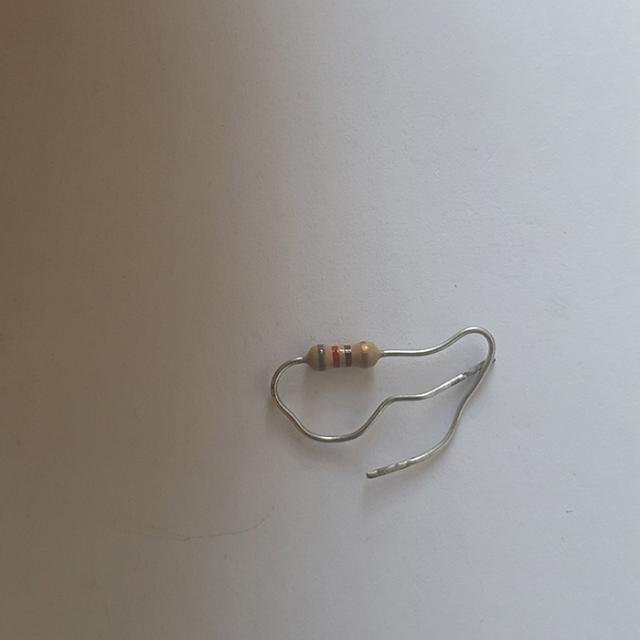brown: (345, 345, 352, 368)
gold: (360, 342, 368, 366)
grey: (317, 344, 326, 369)
red: (331, 346, 340, 368)
resistor: (300, 337, 388, 377)
